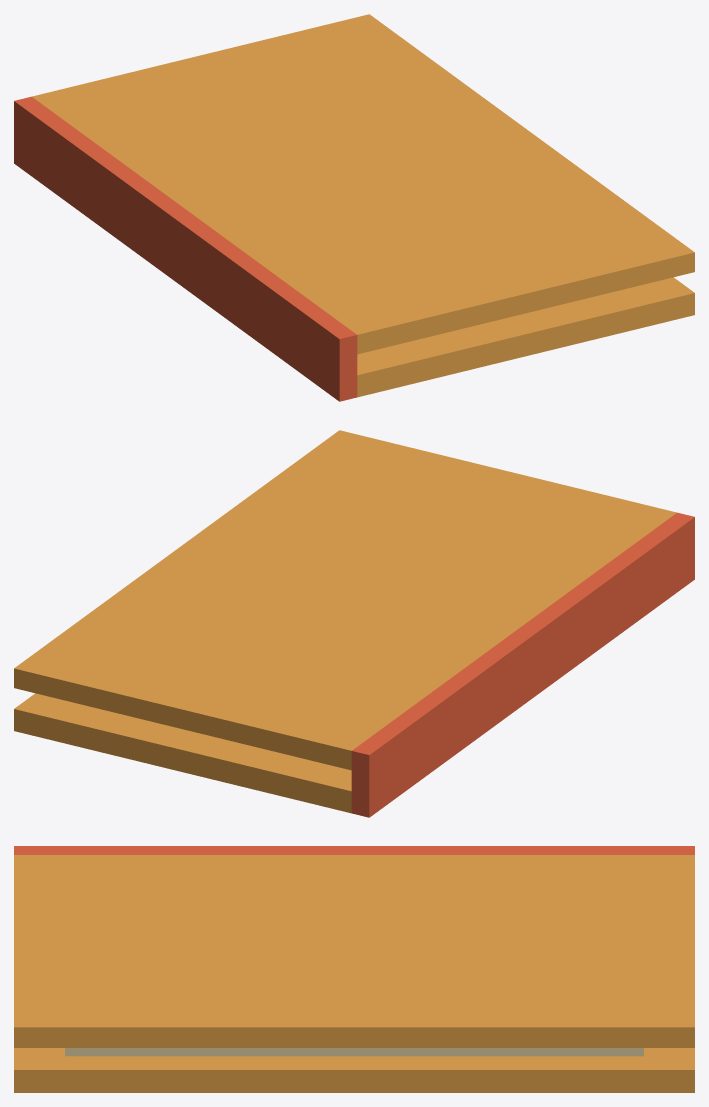
Rendered from book_orange.fbx.
The picture shows the model from 3 angles, top to bottom: view 1: azimuth 30°, elevation 25°; view 2: azimuth 150°, elevation 25°; view 3: azimuth 270°, elevation 25°; orthographic projection. The views are drawn at different scales.
Visible parts, largest first — view 1: Cube; view 2: Cube; view 3: Cube.
Part boxes in pixels (x1,y1,x2,y2): Cube: (14,14,694,401); Cube: (14,430,694,817); Cube: (14,846,694,1092).
Bounding box in the file's own units: 126 × 21.22 × 200.
